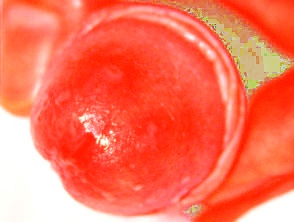SJS-TEN: (1, 28, 206, 222)
